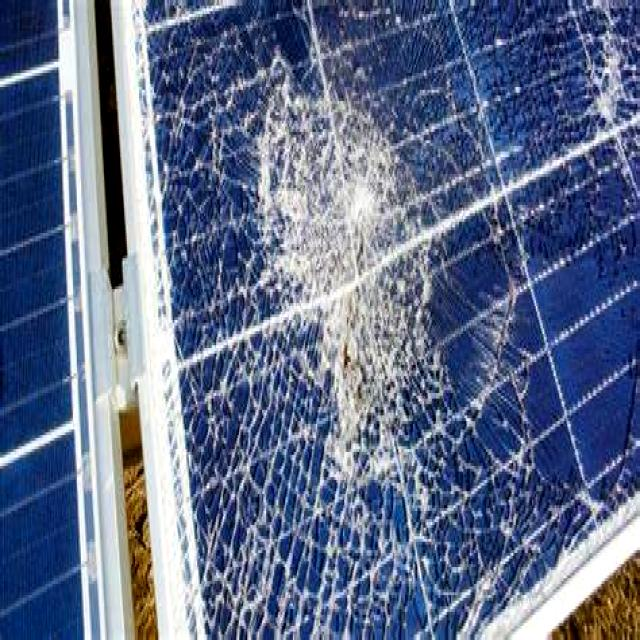hotspot: (233, 37, 441, 467), (562, 0, 640, 243), (220, 516, 360, 640), (434, 471, 522, 596)
